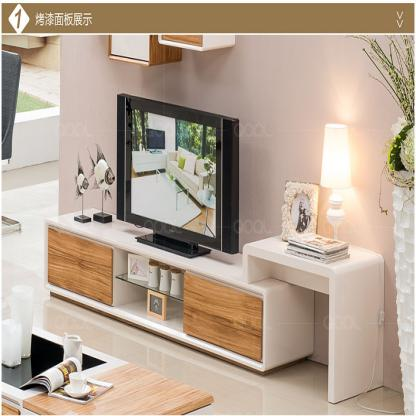Ceramic floor: (46, 303, 403, 416), (2, 160, 59, 355)
TV stand: (42, 175, 389, 409)
